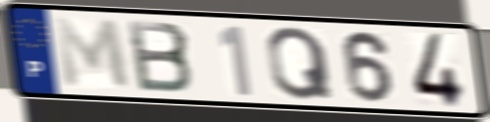1: (217, 23, 253, 98)
4: (410, 30, 467, 111)
6: (341, 29, 395, 105)
B: (124, 18, 197, 96)
M: (51, 15, 135, 93)
Q: (264, 25, 337, 103)
